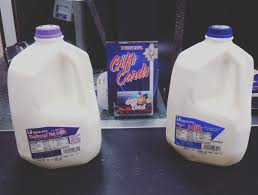milk: (7, 24, 103, 165), (170, 25, 251, 169)
